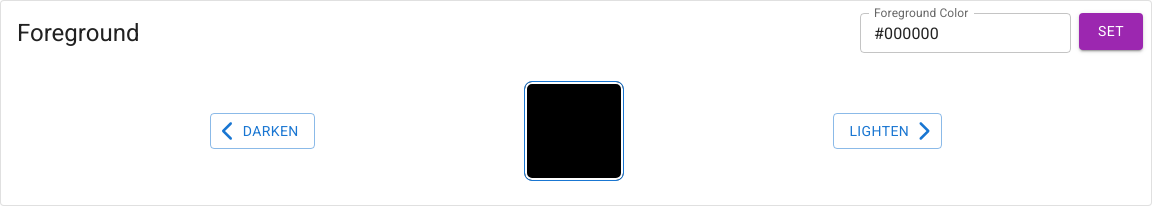
ColorSlider.tsx › Lighten
Click the button "Lighten": point(888, 131) [833, 113, 942, 149]
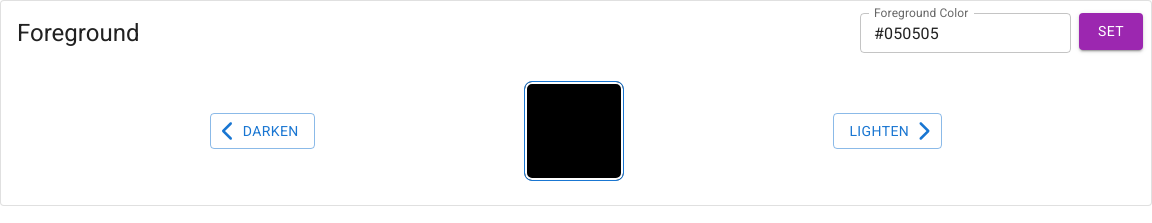
Expected: the number of fields is 1, [860, 13, 1071, 53]
Now the field holds "#050505", box [860, 13, 1071, 53]
